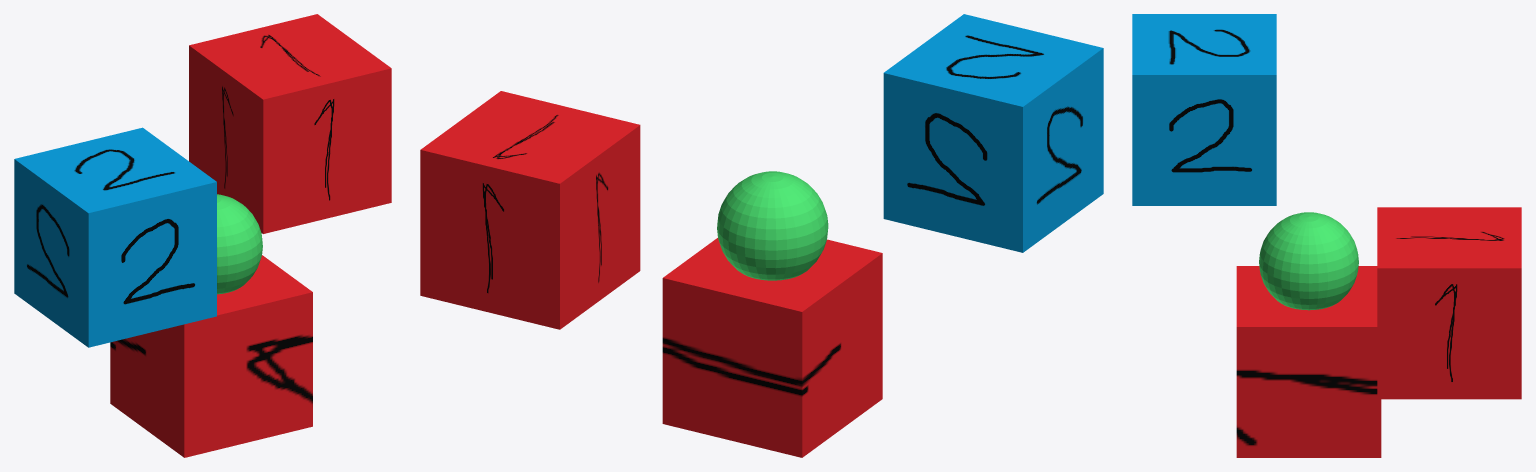
The picture shows the model from 3 angles, left to right: view 1: azimuth 30°, elevation 25°; view 2: azimuth 150°, elevation 25°; view 3: azimuth 270°, elevation 25°; orthographic projection. The views are drawn at different scales.
Parts seen in each view (by area): view 1: cube_2, cube_1, cube_3, sphere_1; view 2: cube_1, cube_2, cube_3, sphere_1; view 3: cube_1, cube_2, cube_3, sphere_1.
Part boxes in pixels (x1,y1,x2,y2): cube_2: [14, 127, 216, 347]; cube_1: [189, 14, 391, 233]; cube_3: [110, 255, 312, 457]; sphere_1: [217, 194, 262, 294]; cube_1: [420, 91, 640, 329]; cube_2: [883, 14, 1103, 252]; cube_3: [662, 238, 882, 457]; sphere_1: [717, 171, 828, 280]; cube_1: [1377, 207, 1521, 399]; cube_2: [1132, 14, 1276, 205]; cube_3: [1236, 266, 1381, 457]; sphere_1: [1259, 212, 1358, 310].
Bounding box in the file's own units: 668 × 477 × 540.
